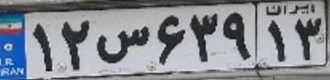character: (93, 17, 152, 69), (58, 14, 92, 73), (187, 9, 221, 67), (221, 9, 255, 65), (154, 12, 187, 69), (29, 19, 55, 74), (293, 15, 323, 62), (264, 19, 290, 63)
